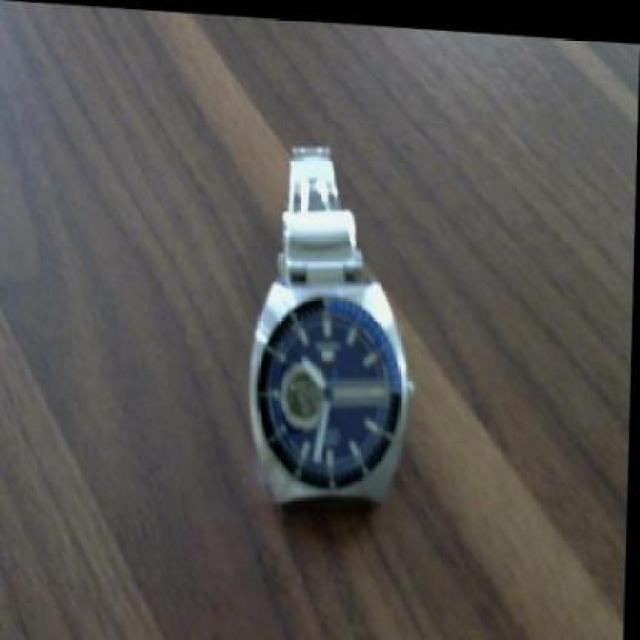Metal: (237, 141, 420, 521)
